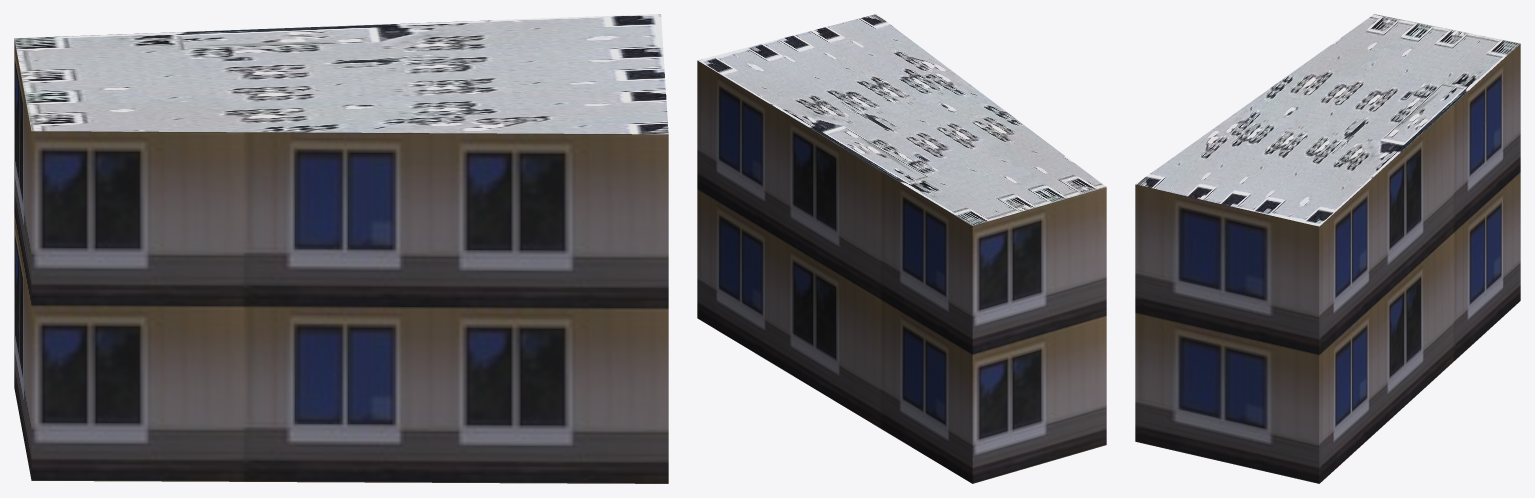
File: ResTex__1220.fbx
3 views of the same model, side by side, from view 1: azimuth 30°, elevation 25°; view 2: azimuth 150°, elevation 25°; view 3: azimuth 270°, elevation 25° (orthographic). The views are drawn at different scales.
Parts seen in each view (by area): view 1: CityEngineMaterial_5_m, CityEngineMaterial_8_m; view 2: CityEngineMaterial_5_m, CityEngineMaterial_8_m; view 3: CityEngineMaterial_5_m, CityEngineMaterial_8_m.
Part boxes in pixels (x1,y1,x2,y2): CityEngineMaterial_5_m: (14,39,668,483); CityEngineMaterial_8_m: (14,14,668,134); CityEngineMaterial_5_m: (697,60,1106,483); CityEngineMaterial_8_m: (697,14,1106,225); CityEngineMaterial_5_m: (1135,44,1520,483); CityEngineMaterial_8_m: (1135,14,1520,226).
Size of the model in its own units: 10.64 by 6 by 8.15.
2 materials, 2 textured.
